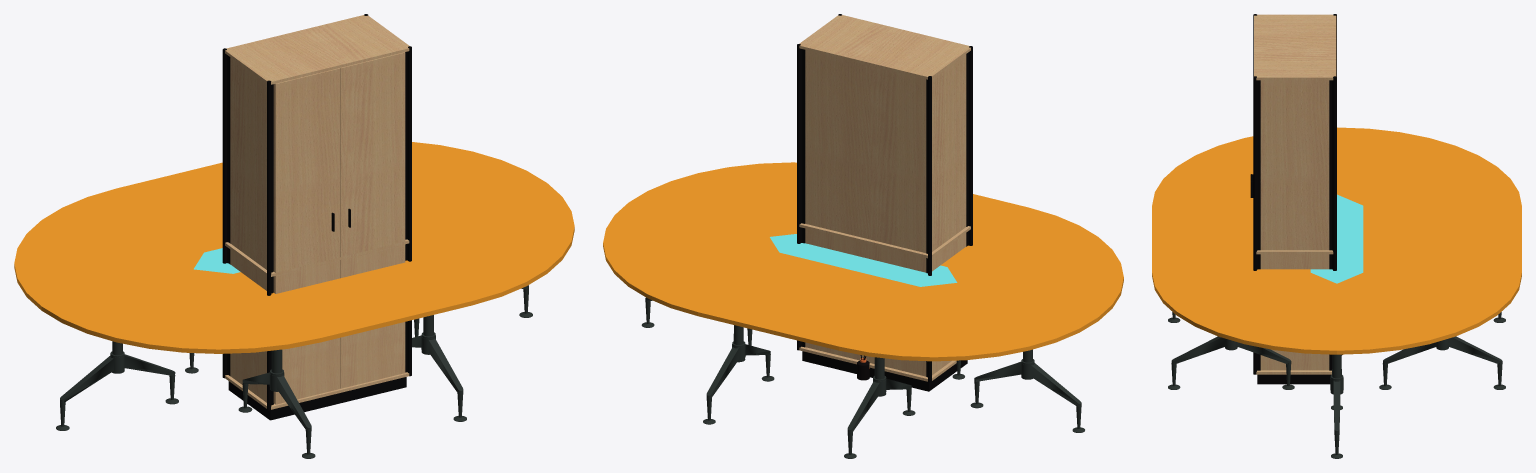
Rendered from Kataranov.fbx.
3 views of the same model, side by side, from view 1: azimuth 30°, elevation 25°; view 2: azimuth 150°, elevation 25°; view 3: azimuth 270°, elevation 25° (orthographic). The views are drawn at different scales.
Parts seen in each view (by area): view 1: Stol_oval3, Schkaf1, Tumbozka; view 2: Stol_oval3, Schkaf1, Tumbozka; view 3: Stol_oval3, Schkaf1, Tumbozka.
Boxes of the visible parts, x1=… form: Stol_oval3: x1=14, y1=142, x2=574, y2=458; Schkaf1: x1=222, y1=14, x2=411, y2=410; Tumbozka: x1=222, y1=239, x2=411, y2=420; Stol_oval3: x1=603, y1=162, x2=1123, y2=458; Schkaf1: x1=797, y1=14, x2=972, y2=391; Tumbozka: x1=797, y1=223, x2=972, y2=391; Stol_oval3: x1=1152, y1=127, x2=1521, y2=458; Schkaf1: x1=1250, y1=14, x2=1336, y2=374; Tumbozka: x1=1253, y1=250, x2=1336, y2=384.
Size of the model in its own units: 118 by 75.98 by 82.68.
